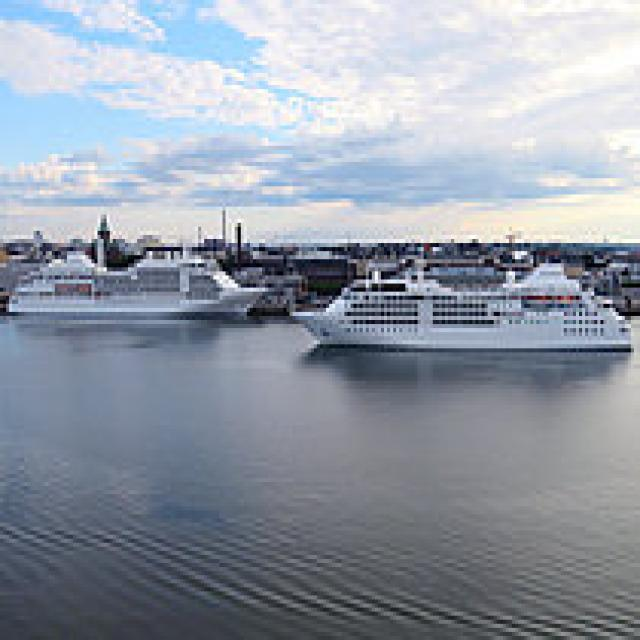Ship: (278, 252, 638, 370), (1, 223, 278, 329)
